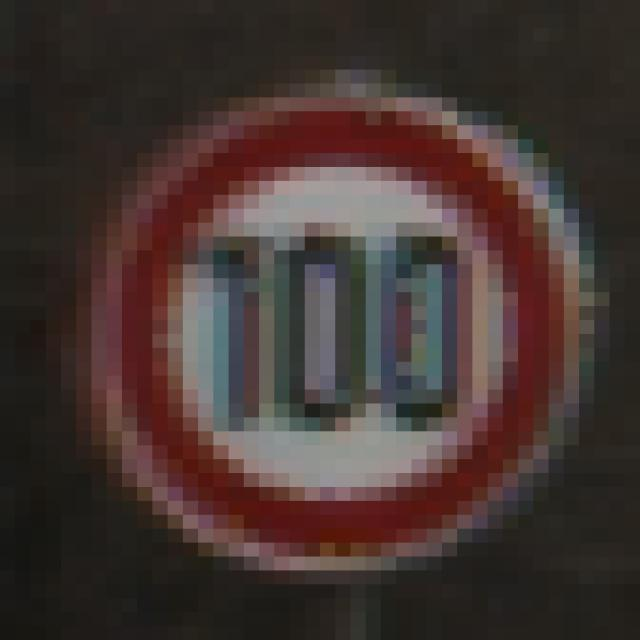Ograniczenie predkosci do 100: (103, 102, 564, 561)
